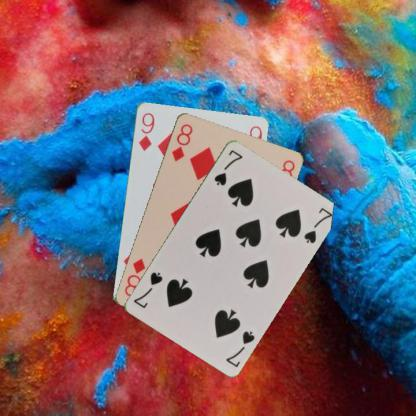7s: (211, 146, 244, 186), (223, 328, 256, 368)
8d: (168, 121, 194, 162)
9d: (136, 110, 155, 152)
